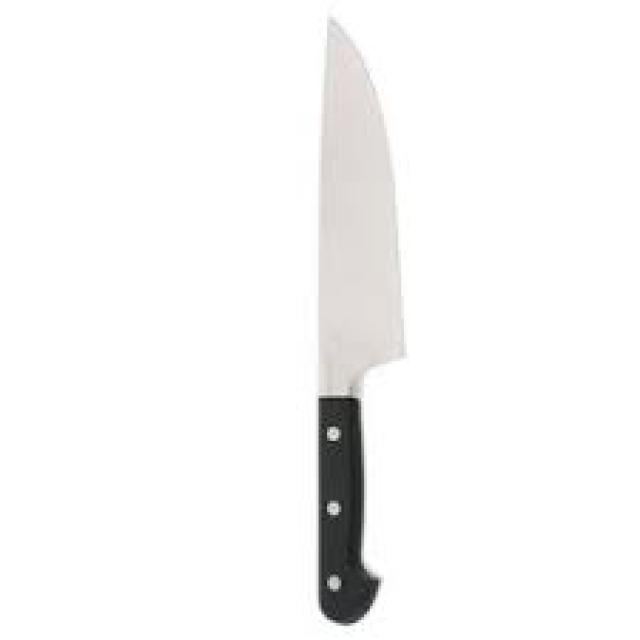knife: (317, 14, 411, 629)
